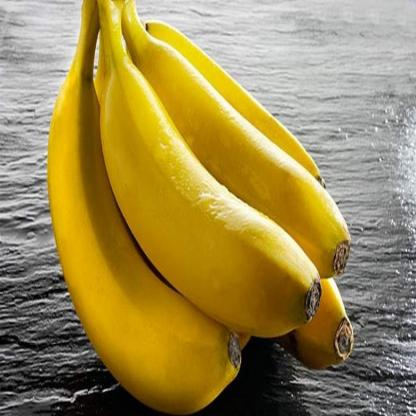banana: (93, 58, 324, 366), (45, 72, 245, 415), (121, 44, 354, 276)
